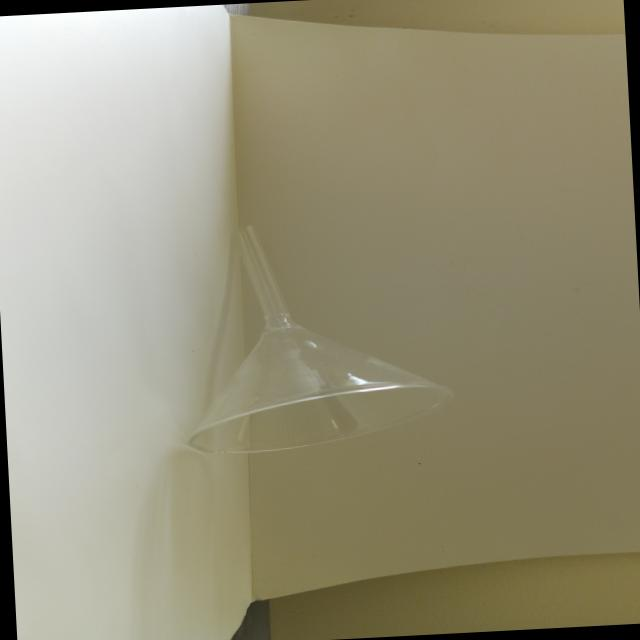funnel: (155, 208, 472, 472)
